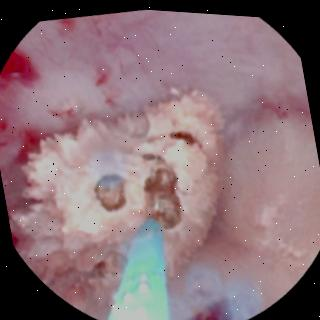fiber: (106, 218, 166, 320)
stone: (9, 89, 222, 312)
tissue: (0, 8, 320, 320)
